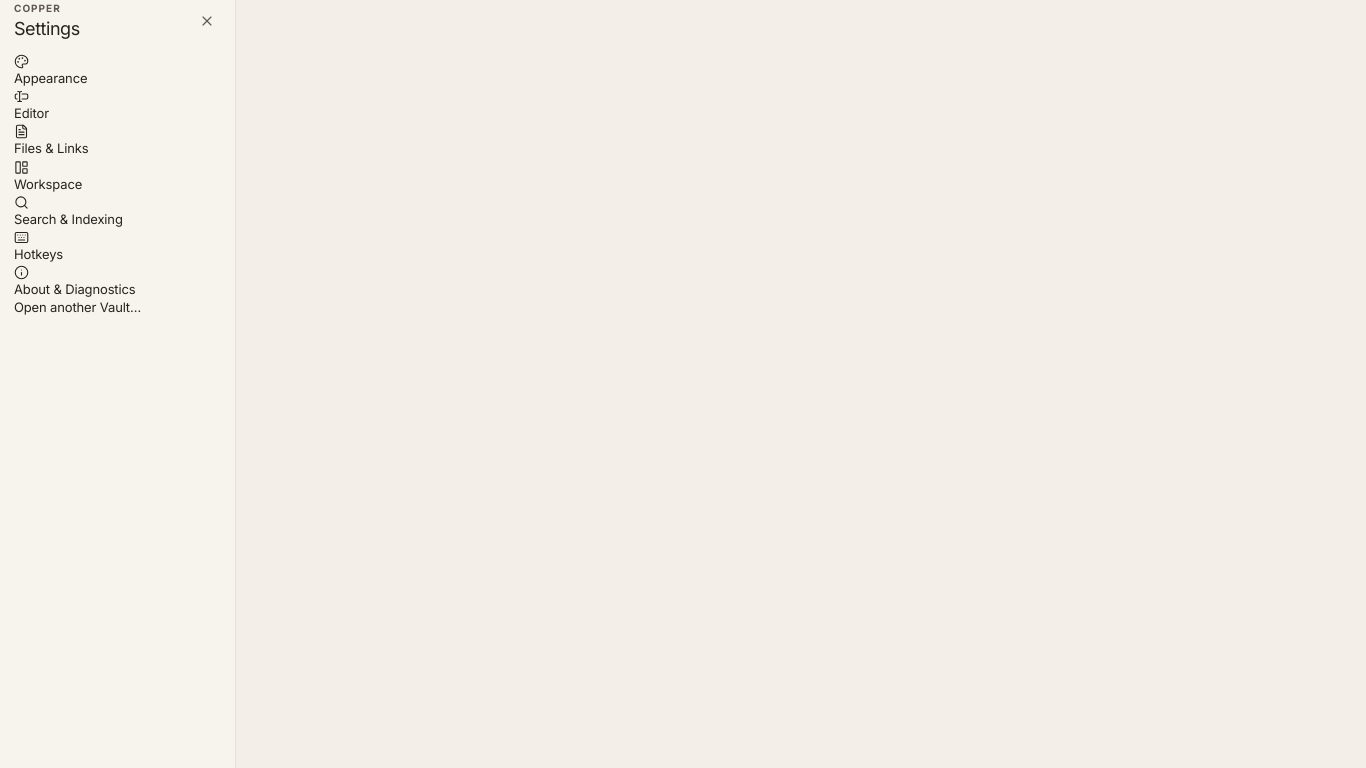
Scenario: icon button tooltips › shows one custom Close settings tooltip without a native title
Hover over the button named "Close settings" at (207, 21), box left=193, top=7, right=221, bottom=35
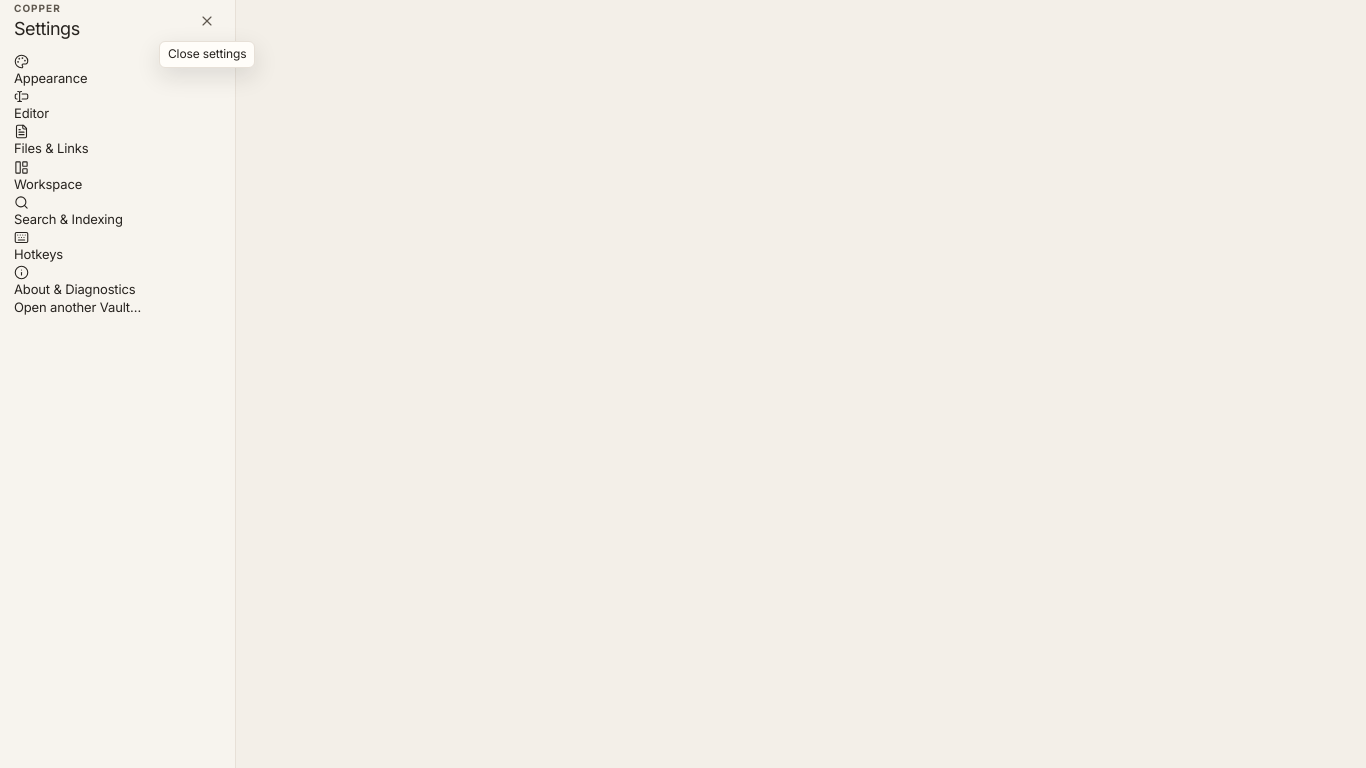
Result: the number of tooltips is 1 at left=159, top=41, right=256, bottom=68
